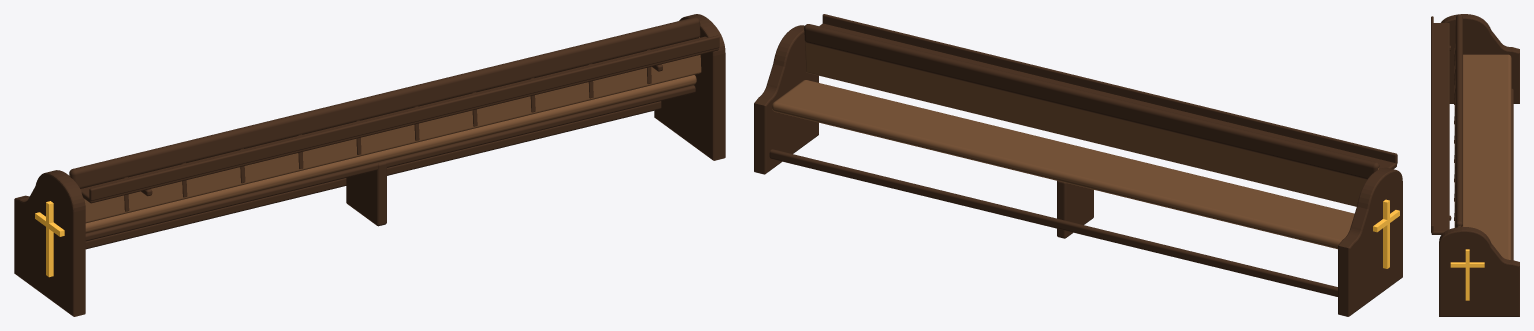
Rendered from pew.glb.
3 views of the same model, side by side, from view 1: azimuth 30°, elevation 25°; view 2: azimuth 150°, elevation 25°; view 3: azimuth 270°, elevation 25° (orthographic). The views are drawn at different scales.
Visible parts, largest first — view 1: TopRail, PewEnd (×2), BackPanel, BookLip, Seat, SeatRail, Stretcher, BookShelf, MidRail, CenterLeg, Cross; view 2: Seat, BackPanel, TopRail, PewEnd (×2), Stretcher, BookLip, BookShelf, MidRail, CenterLeg, Cross; view 3: Seat, PewEnd (×2), BookShelf, TopRail, BookLip, Stretcher, Cross, BackPanel.
Boxes of the visible parts, x1,y1,x2,y2 form: TopRail: (69,17,700,188); PewEnd (×2): (14,14,725,316); BackPanel: (69,37,701,223); BookLip: (89,35,719,200); Seat: (85,75,696,233); SeatRail: (85,85,695,241); Stretcher: (85,101,661,249); BookShelf: (80,36,718,203); MidRail: (85,58,700,211); CenterLeg: (346,161,386,226); Cross: (35,201,64,277); Seat: (772,80,1354,249); BackPanel: (805,41,1379,206); TopRail: (804,24,1379,179); PewEnd (×2): (754,25,1402,316); Stretcher: (769,149,1337,296); BookLip: (822,14,1397,163); BookShelf: (819,23,1396,169); MidRail: (806,59,1359,197); CenterLeg: (1057,181,1093,238); Cross: (1373,199,1399,268); Seat: (1462,54,1511,259); PewEnd (×2): (1439,14,1519,316); BookShelf: (1431,23,1449,234); TopRail: (1455,14,1462,227); BookLip: (1431,16,1433,233); Stretcher: (1511,88,1513,260); Cross: (1450,249,1484,300); BackPanel: (1454,44,1460,227).
Bounding box in the file's own units: 5.71 × 1.1 × 0.972.
